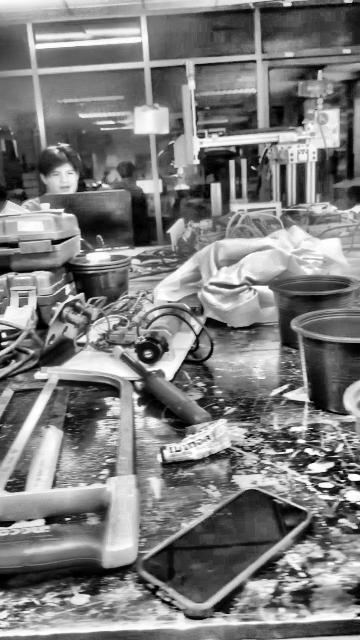pot: (291, 309, 359, 413), (270, 275, 356, 349)
